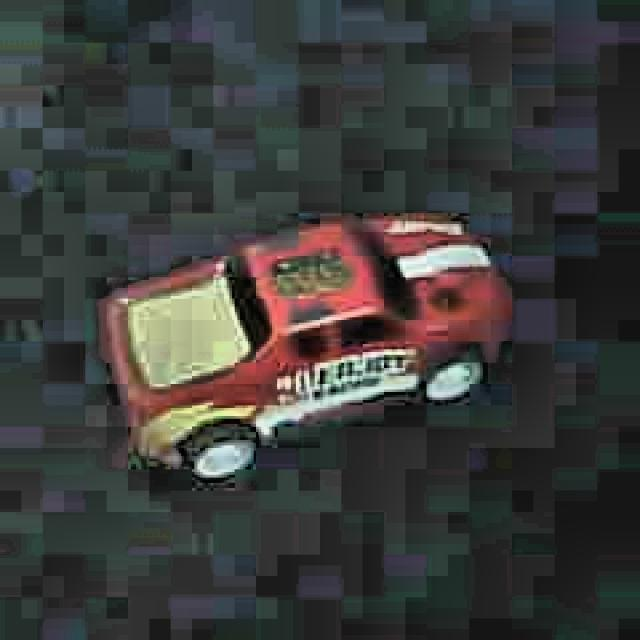car: (96, 206, 511, 487)
